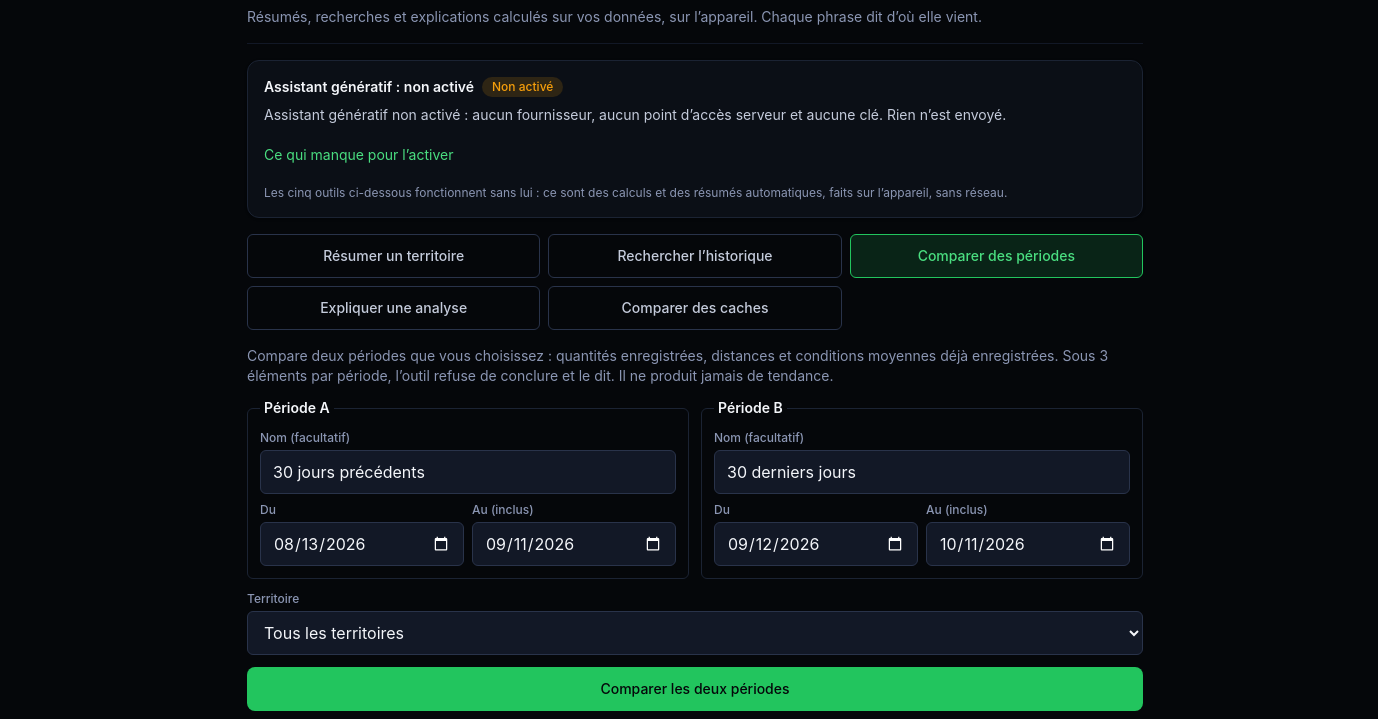
Test: AssistantPage — comparaison de périodes › compare deux périodes suffisamment fournies
Type "2026-08-01" into the 1st date field labelled "Du" at (362, 544), box 260,522 -> 464,566
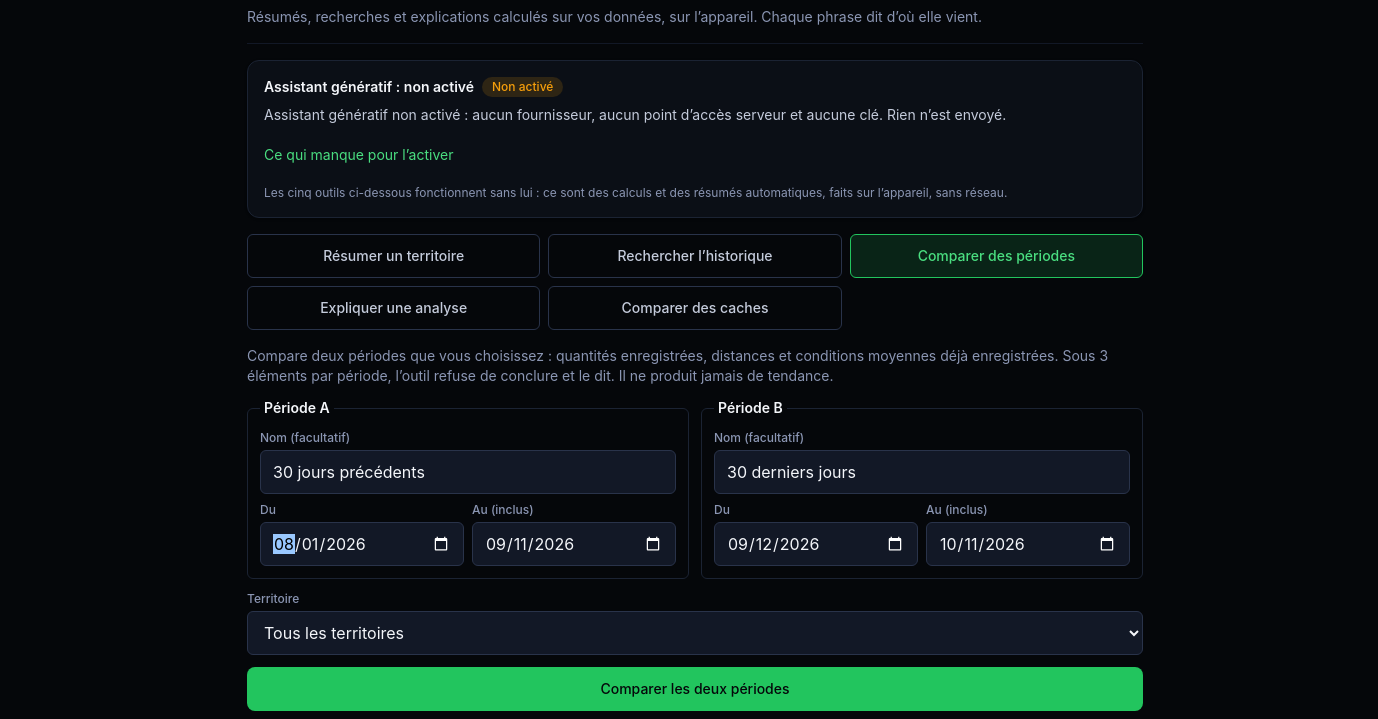
Type "2026-08-31" into the 1st date field labelled "Au (inclus)" at (574, 544), box 472,522 -> 676,566
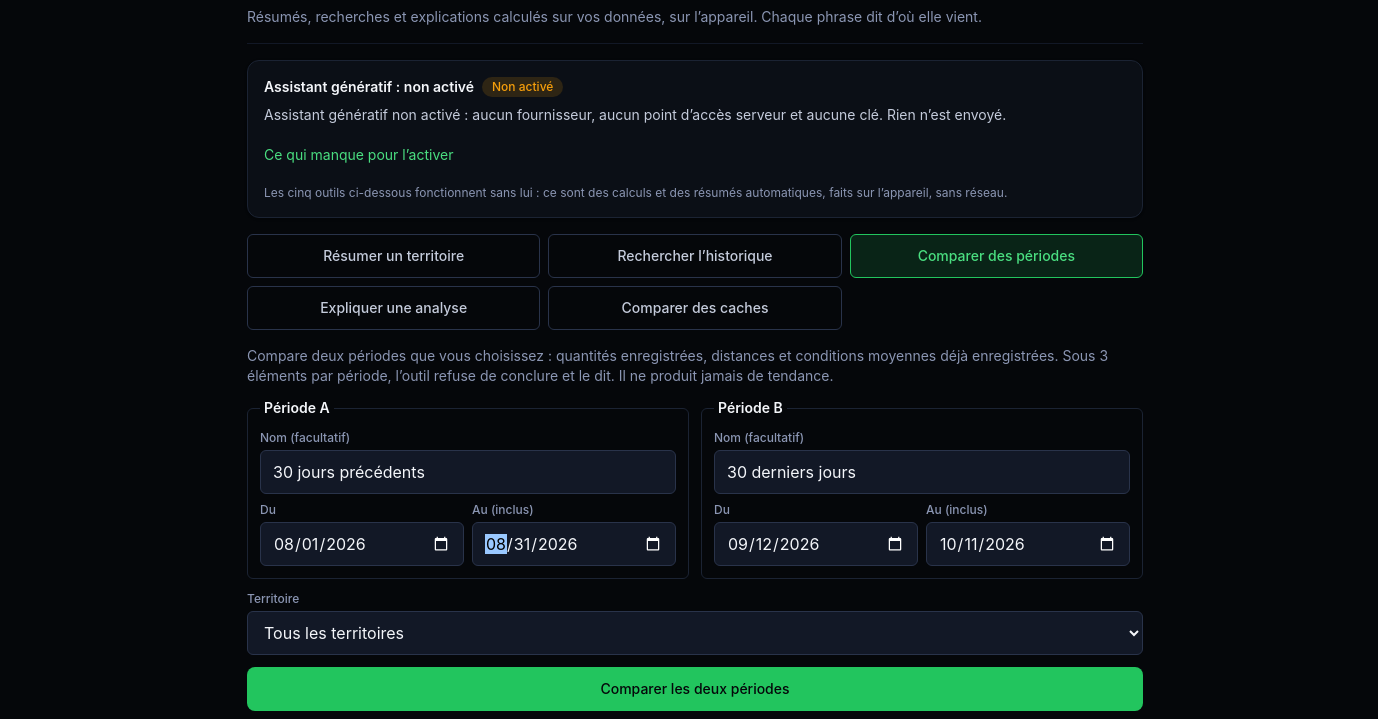
Type "2026-09-15" into the 2nd date field labelled "Du" at (816, 544), box 714,522 -> 918,566
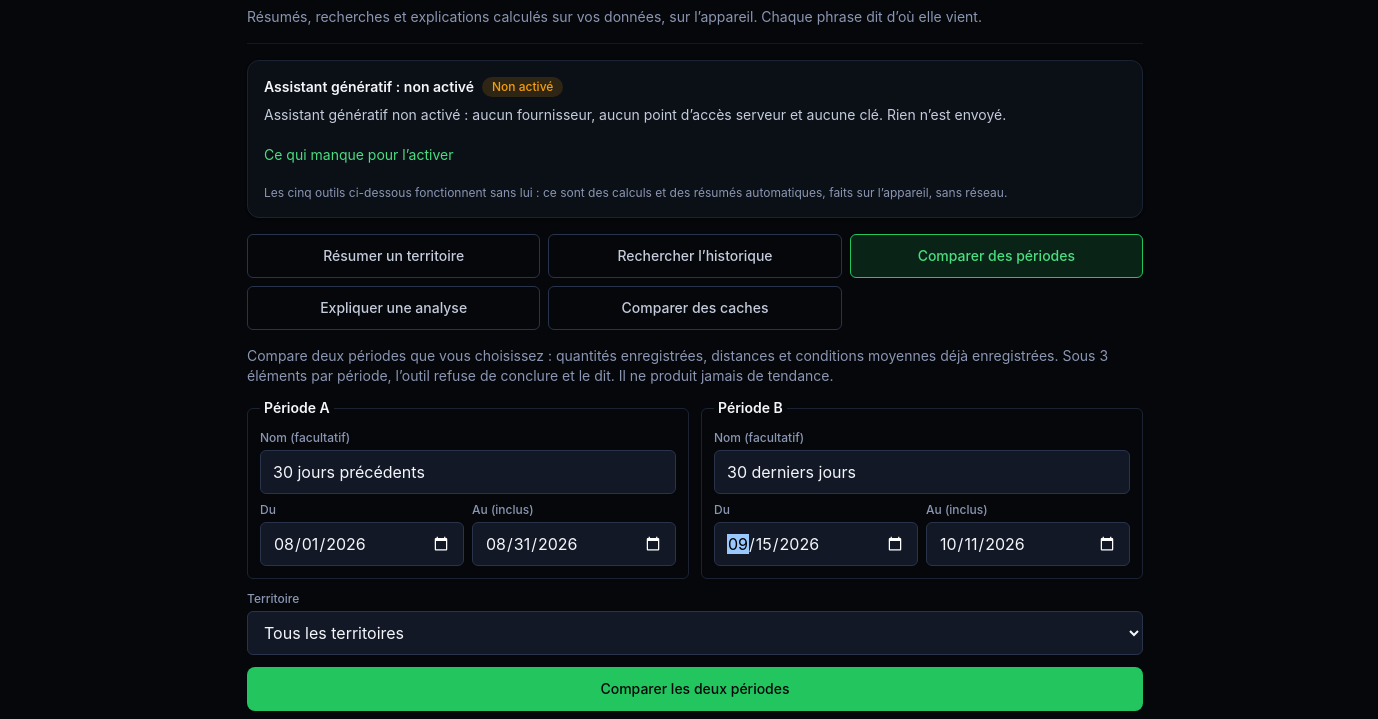
Type "2026-10-31" into the 2nd date field labelled "Au (inclus)" at (1028, 544), box 926,522 -> 1130,566
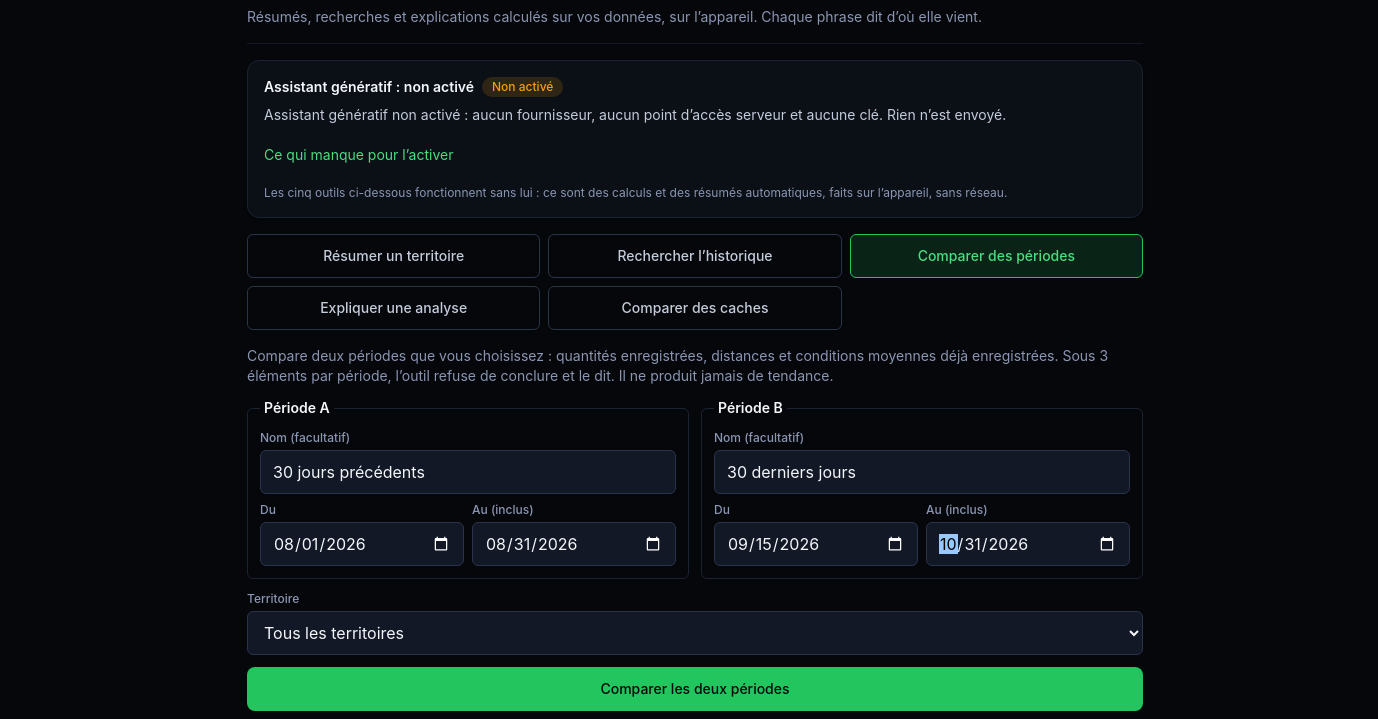
Click the button "Comparer les deux périodes" at (695, 689), box 247,667 -> 1143,711
(page scrolled)
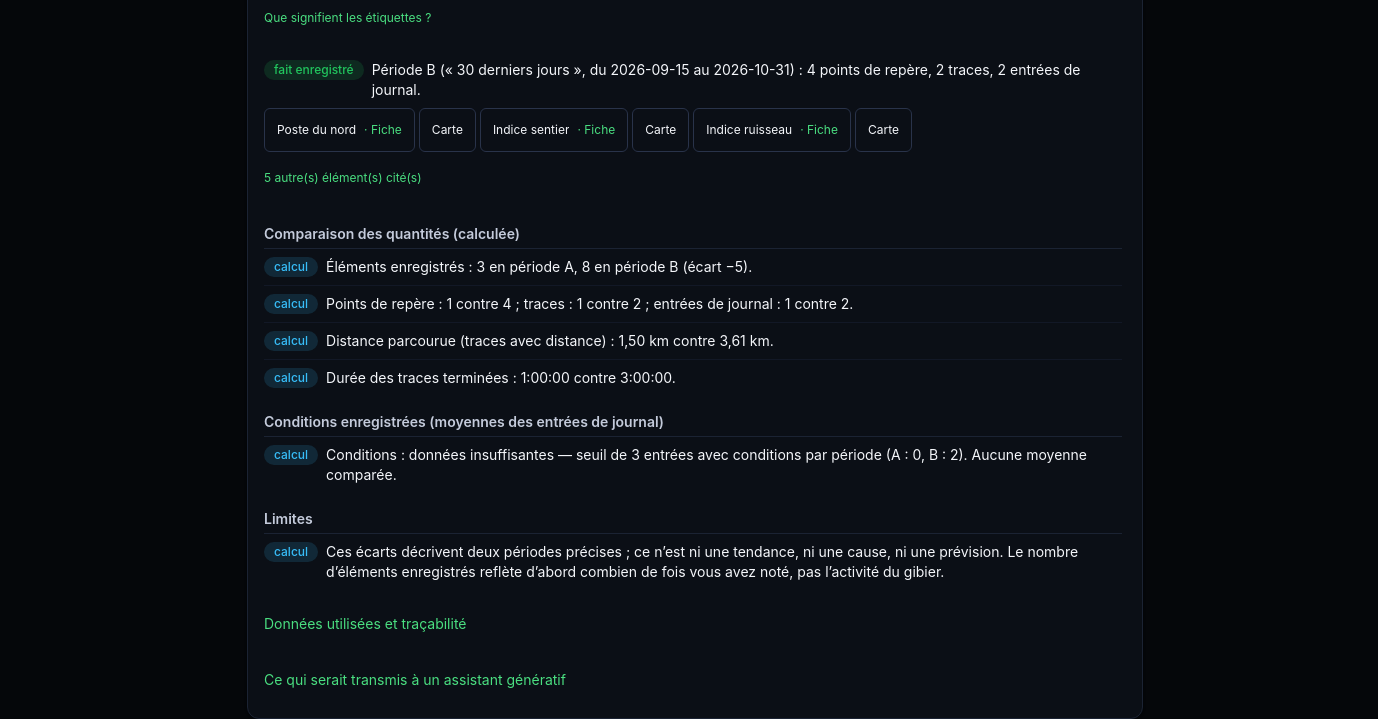
Check: the text "ce n’est ni une tendance" is shown, box 326,543 -> 1078,580
